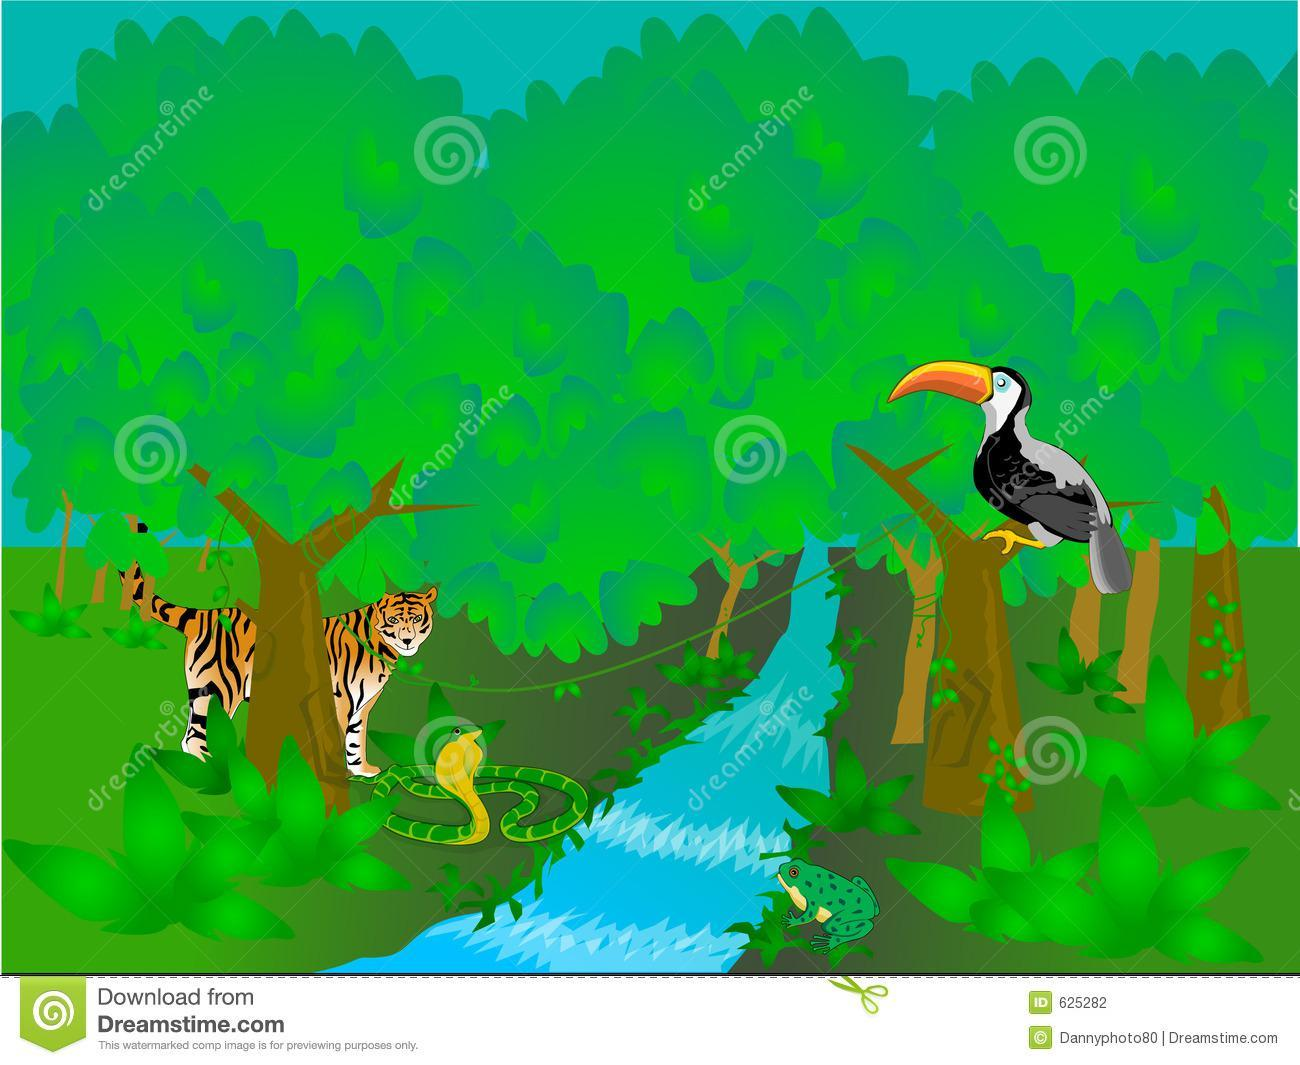bird: (881, 355, 1145, 599)
